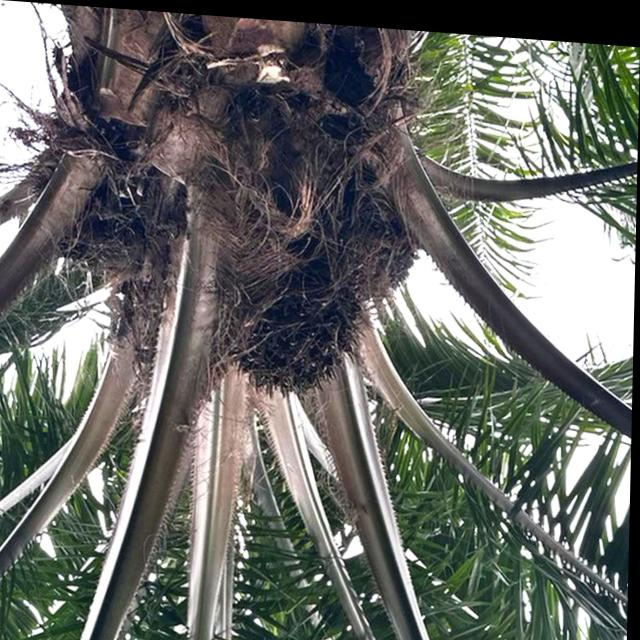almost: (219, 230, 374, 407)
